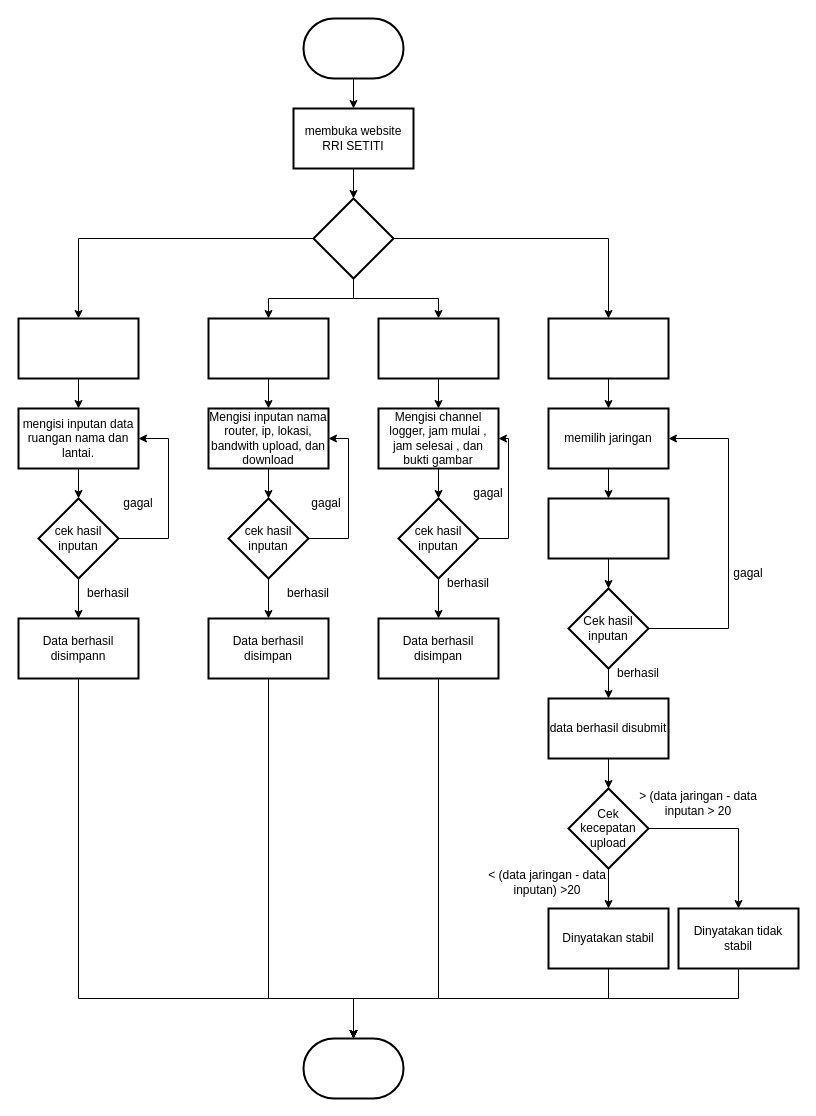
This 816x1116 diagram has some shape labels left out. Each missing label, with the centre of its shape:
Menambah Jaringan: pixel 268 348
menambah logger jaringan: pixel 438 348
Menambah monitor jaringan: pixel 608 348
Menambah ruang: pixel 78 348
mengisi status ketersediaan barang, bandwidth upload dan download: pixel 608 528
pilih fungsi: pixel 353 238
SELESAI: pixel 353 1068
START: pixel 353 48
